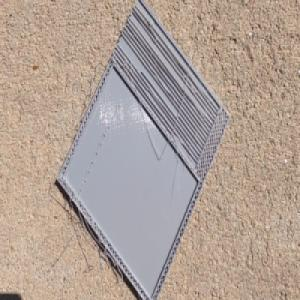PlasticPart: (55, 0, 233, 300)
